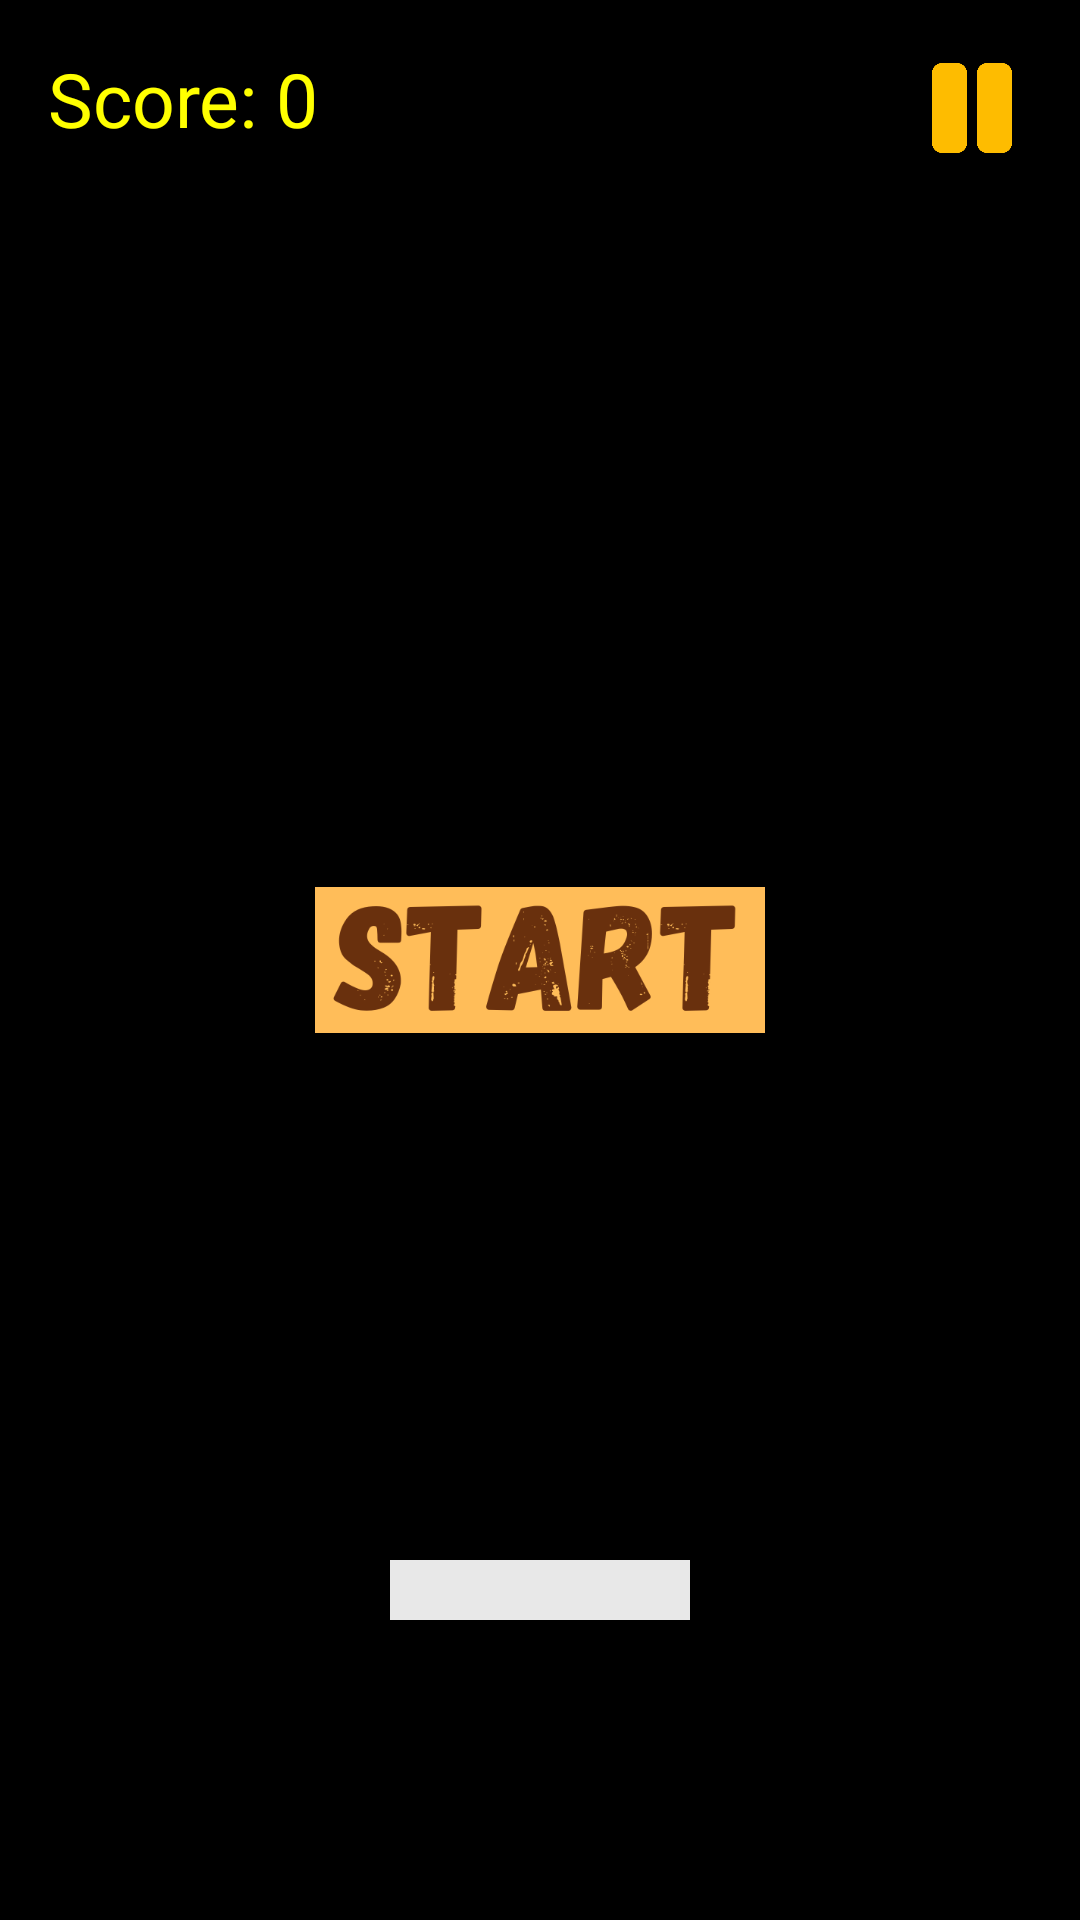

Screen size 1080 × 1920. Icon name, then its center in pixels as (x,y):
Pause Button: (972,108)
